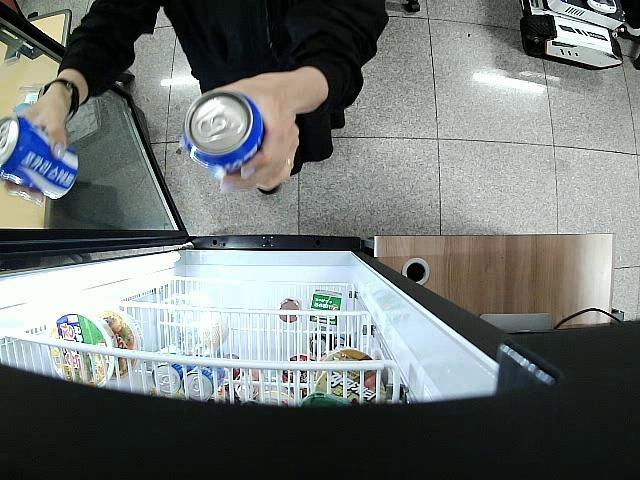13_pocariSweat: (182, 90, 266, 174), (0, 115, 80, 201)
